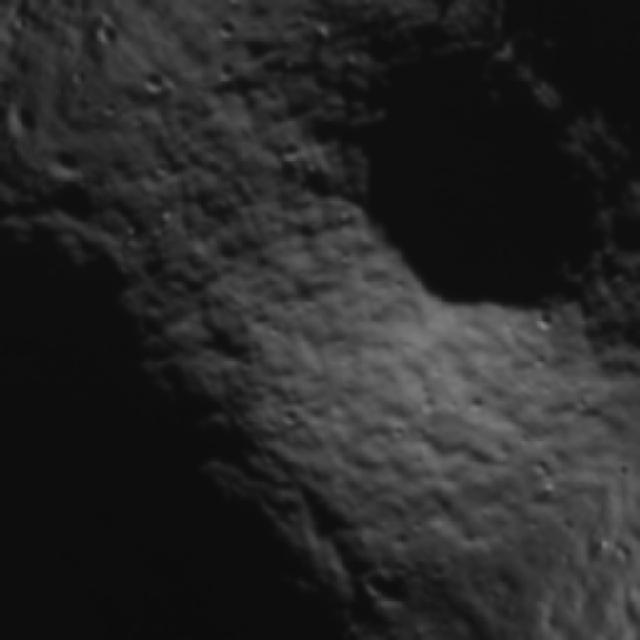crater: (206, 0, 640, 437), (127, 56, 181, 110), (40, 132, 91, 183)
